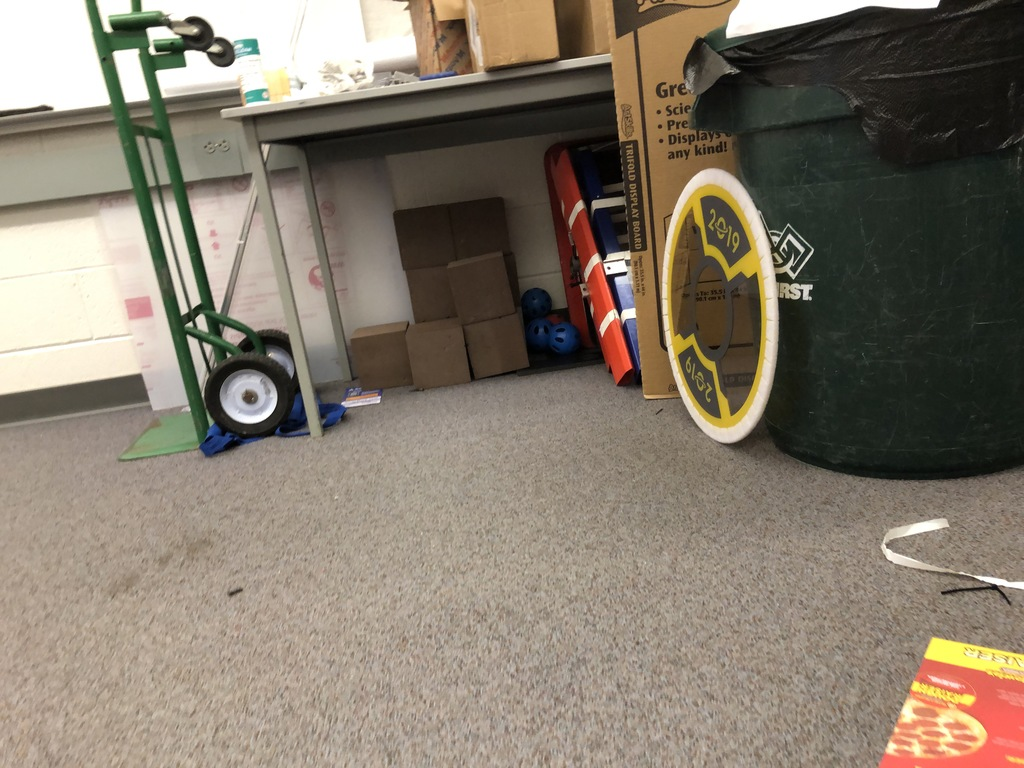hatch_panel: (650, 158, 787, 471)
